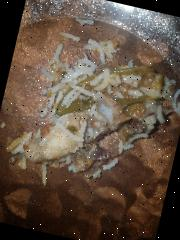organic: (6, 13, 180, 212)
